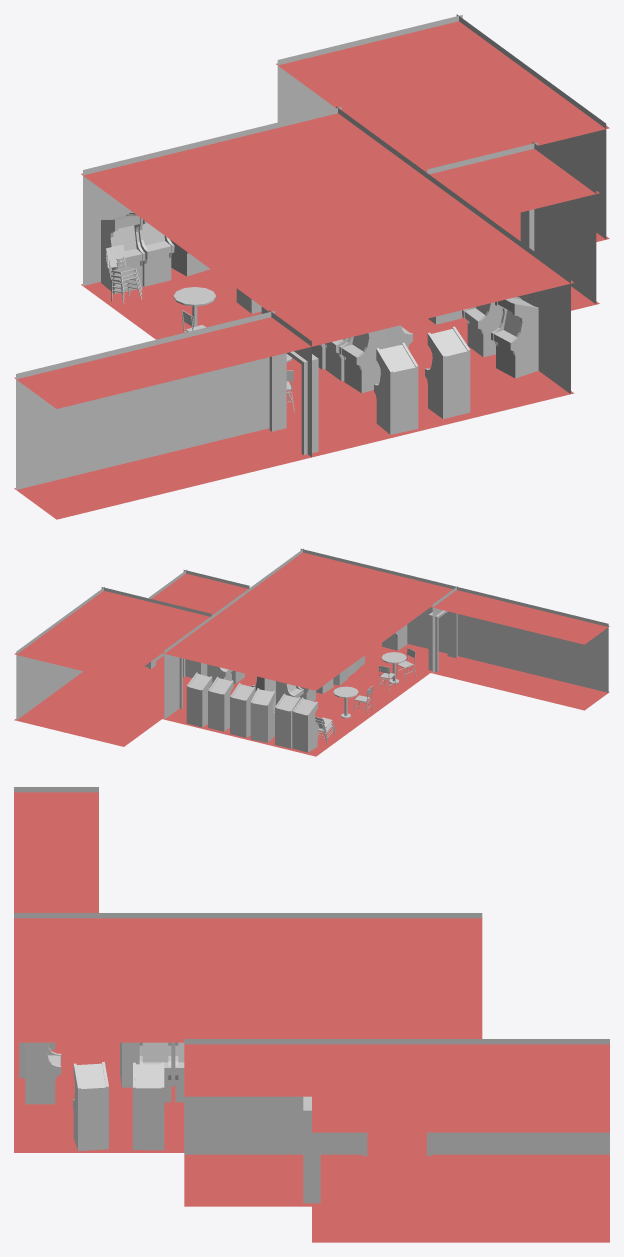
The model's file is level.glb.
The picture shows the model from 3 angles, top to bottom: view 1: azimuth 30°, elevation 25°; view 2: azimuth 150°, elevation 25°; view 3: azimuth 270°, elevation 25°; orthographic projection. The views are drawn at different scales.
Parts seen in each view (by area): view 1: ceiling, Wall Segment-col (×16), Floor, arcade_cabinet-col (×6), side-col (×6), doorframe, wall segment door-col, table-col; view 2: ceiling, Floor, Wall Segment-col (×14), arcade_cabinet-col (×6), side-col (×6), doorframe (×2), table-col (×2), wall segment door-col; view 3: ceiling, Floor, Wall Segment-col (×8), arcade_cabinet-col (×3), side-col (×3), doorframe, wall segment door-col.
Part boxes in pixels (x1=…): ceiling: x1=14, y1=21, x2=609, y2=408; Wall Segment-col (×16): x1=16, y1=51, x2=606, y2=489; Floor: x1=14, y1=212, x2=609, y2=519; arcade_cabinet-col (×6): x1=110, y1=215, x2=534, y2=434; side-col (×6): x1=101, y1=214, x2=538, y2=434; doorframe: x1=269, y1=351, x2=318, y2=454; wall segment door-col: x1=269, y1=310, x2=311, y2=457; table-col: x1=173, y1=287, x2=216, y2=326; ceiling: x1=14, y1=552, x2=609, y2=690; Floor: x1=14, y1=643, x2=609, y2=756; Wall Segment-col (×14): x1=16, y1=575, x2=608, y2=720; arcade_cabinet-col (×6): x1=188, y1=674, x2=315, y2=752; side-col (×6): x1=186, y1=672, x2=319, y2=752; doorframe (×2): x1=179, y1=610, x2=457, y2=708; table-col (×2): x1=333, y1=652, x2=406, y2=718; wall segment door-col: x1=432, y1=586, x2=457, y2=672; ceiling: x1=14, y1=792, x2=609, y2=1132; Floor: x1=14, y1=1042, x2=609, y2=1242; Wall Segment-col (×8): x1=184, y1=1039, x2=609, y2=1154; arcade_cabinet-col (×3): x1=77, y1=1042, x2=168, y2=1150; side-col (×3): x1=25, y1=1042, x2=164, y2=1150; doorframe: x1=303, y1=1096, x2=320, y2=1203; wall segment door-col: x1=354, y1=1039, x2=439, y2=1154.
Size of the model in its own units: 19 by 3 by 14.
